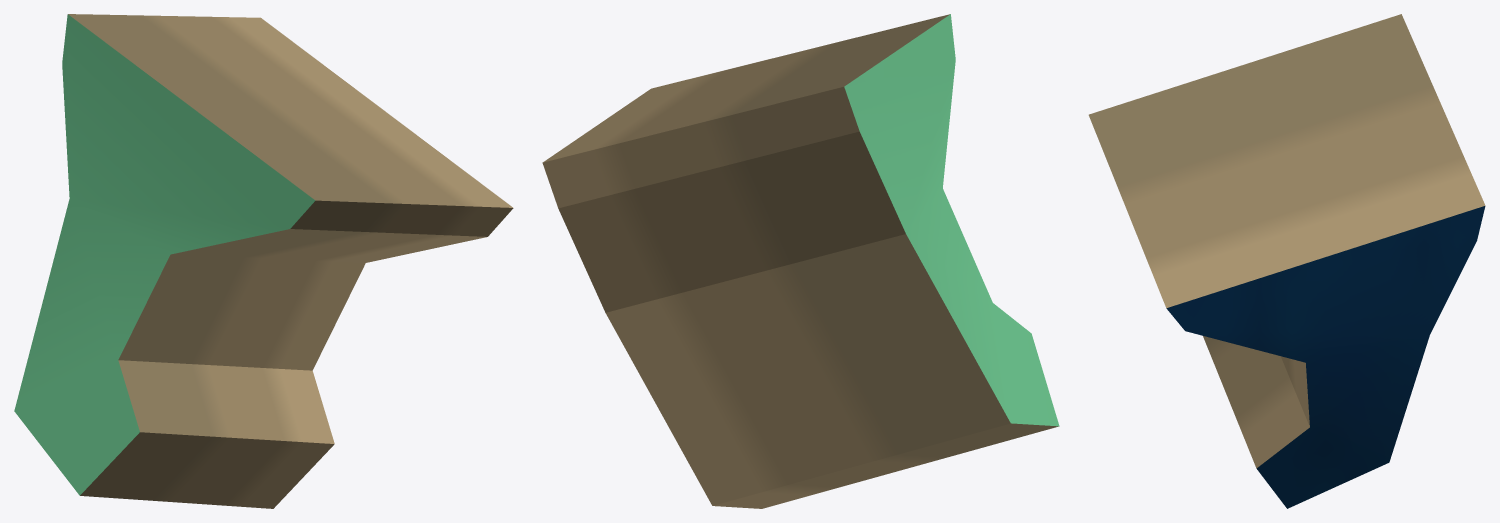
The model's file is 05e8_Dominica.glb.
3 views of the same model, side by side, from view 1: azimuth 30°, elevation 25°; view 2: azimuth 150°, elevation 25°; view 3: azimuth 270°, elevation 25° (orthographic). The views are drawn at different scales.
Visible parts, largest first — view 1: part_0; view 2: part_0; view 3: part_0.
Boxes of the visible parts, <box> form: part_0: <box>14,14,513,508</box>; part_0: <box>542,14,1059,508</box>; part_0: <box>1088,14,1485,508</box>.
Size of the model in its own units: 0.3119 by 0.3421 by 0.2844.
1 material, 1 textured.
